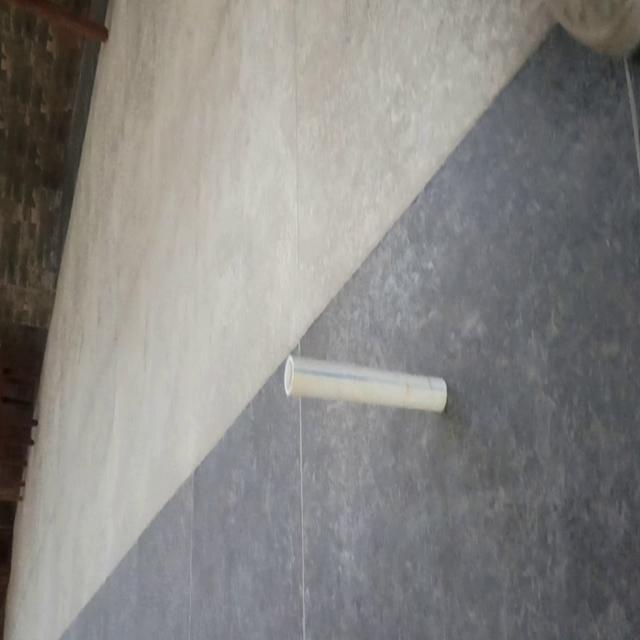Cube: (283, 352, 448, 415)
